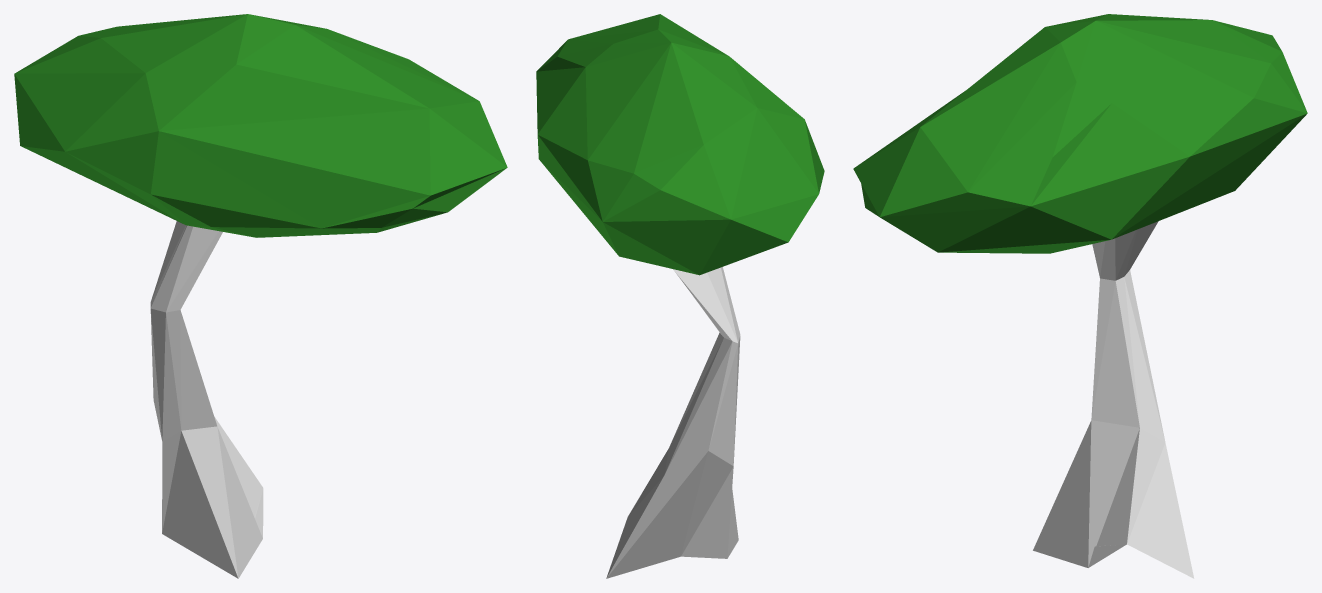
File: tree3.FBX
3 renders of one model, left to right at view 1: azimuth 30°, elevation 25°; view 2: azimuth 150°, elevation 25°; view 3: azimuth 270°, elevation 25°, orthographic. The views are drawn at different scales.
Visible parts, largest first — view 1: Box019, Cylinder007; view 2: Box019, Cylinder007; view 3: Box019, Cylinder007.
Part boxes in pixels (bbox=[...]): Box019: bbox=[14, 14, 507, 237]; Cylinder007: bbox=[150, 221, 263, 578]; Box019: bbox=[536, 14, 824, 275]; Cylinder007: bbox=[606, 267, 740, 578]; Box019: bbox=[853, 14, 1307, 253]; Cylinder007: bbox=[1033, 221, 1194, 578].
Size of the model in its own units: 76.6 by 112 by 83.99.
